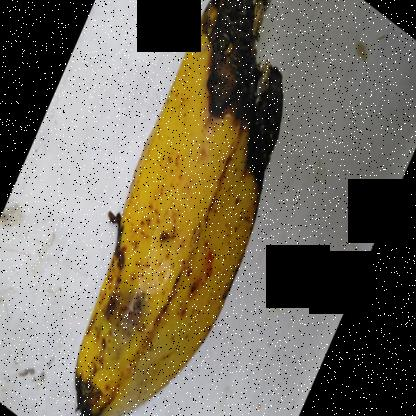rotten: (192, 1, 316, 205), (69, 209, 164, 396), (34, 342, 112, 415)
